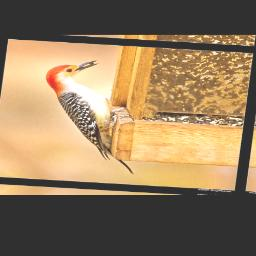Woodpecker: (32, 57, 150, 175)
